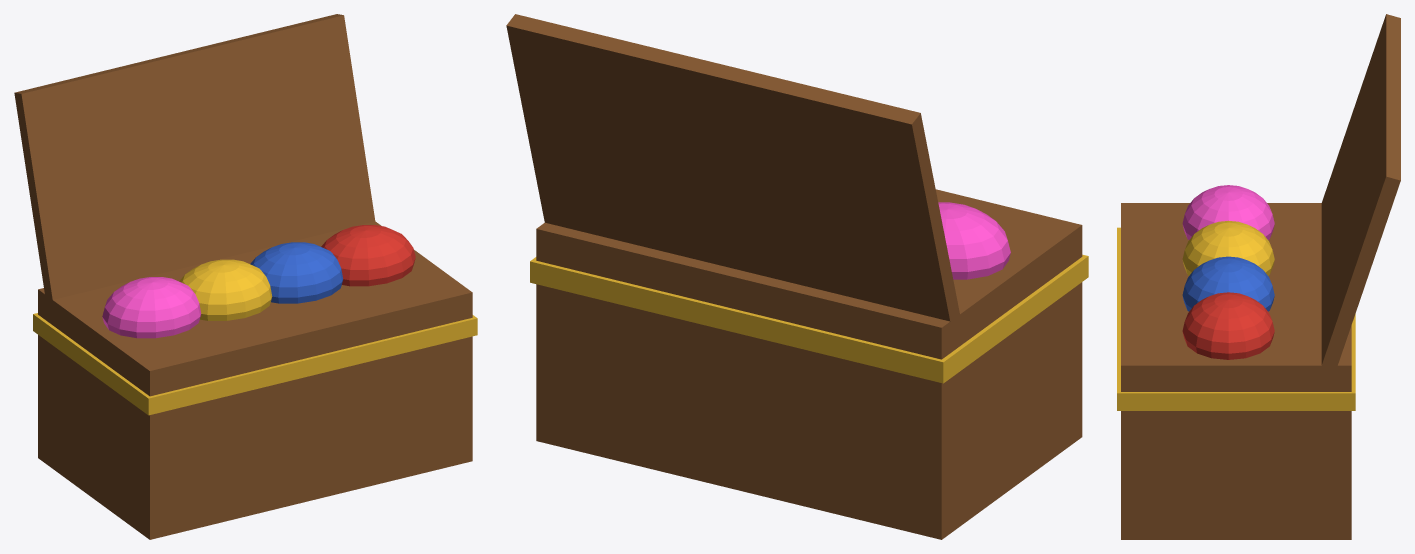
The model's file is wig_trunk.glb.
The picture shows the model from 3 angles, left to right: view 1: azimuth 30°, elevation 25°; view 2: azimuth 150°, elevation 25°; view 3: azimuth 270°, elevation 25°; orthographic projection. The views are drawn at different scales.
Visible parts, largest first — view 1: box_trunk_wood, lid_trunk_wood, wig, band_trunk_brass; view 2: box_trunk_wood, lid_trunk_wood, band_trunk_brass, wig; view 3: box_trunk_wood, lid_trunk_wood, wig, band_trunk_brass.
Part boxes in pixels (x1=…): box_trunk_wood: x1=38, y1=221, x2=472, y2=539; lid_trunk_wood: x1=14, y1=14, x2=375, y2=311; wig: x1=102, y1=225, x2=415, y2=338; band_trunk_brass: x1=33, y1=313, x2=477, y2=415; box_trunk_wood: x1=536, y1=189, x2=1082, y2=539; lid_trunk_wood: x1=506, y1=14, x2=959, y2=336; band_trunk_brass: x1=530, y1=254, x2=1088, y2=383; wig: x1=938, y1=202, x2=1010, y2=279; box_trunk_wood: x1=1121, y1=203, x2=1351, y2=539; lid_trunk_wood: x1=1318, y1=14, x2=1400, y2=379; wig: x1=1182, y1=185, x2=1274, y2=359; band_trunk_brass: x1=1117, y1=227, x2=1355, y2=410.
Size of the model in its own units: 1.02 by 1.04 by 0.7378.
